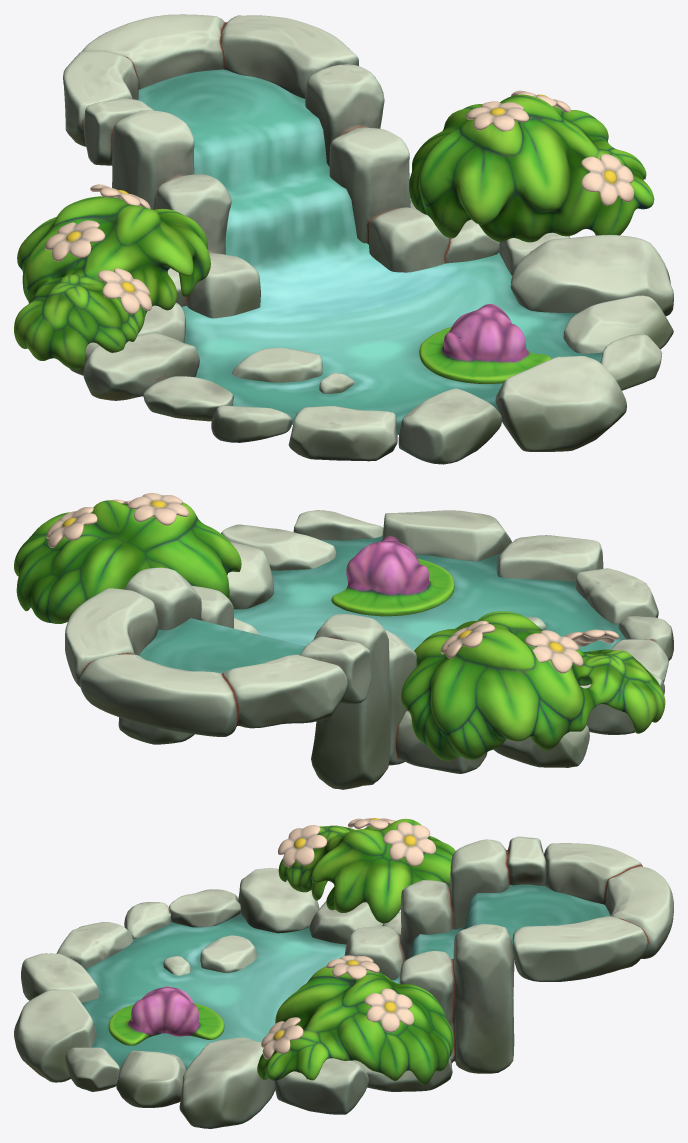
File: FlowerPool_Final.fbx
The picture shows the model from 3 angles, top to bottom: view 1: azimuth 30°, elevation 25°; view 2: azimuth 150°, elevation 25°; view 3: azimuth 270°, elevation 25°; orthographic projection. The views are drawn at different scales.
Parts seen in each view (by area): view 1: Rocks, Water, Flora, Flower Copy Copy (×2), Flower Copy, Flower; view 2: Rocks, Flora, Water, Flower Copy Copy (×2), Flower Copy (×2), Flower; view 3: Rocks, Flora, Water, Flower Copy (×3), Flower Copy Copy, Flower.
Part boxes in pixels (x1=…): Rocks: x1=63, y1=14, x2=673, y2=464; Water: x1=138, y1=69, x2=602, y2=434; Flora: x1=14, y1=94, x2=654, y2=383; Flower Copy Copy (×2): x1=44, y1=220, x2=151, y2=314; Flower Copy: x1=581, y1=154, x2=634, y2=205; Flower: x1=466, y1=101, x2=529, y2=131; Rocks: x1=65, y1=510, x2=673, y2=789; Flora: x1=14, y1=500, x2=665, y2=761; Water: x1=139, y1=536, x2=626, y2=673; Flower Copy Copy (×2): x1=524, y1=629, x2=618, y2=673; Flower Copy (×2): x1=46, y1=507, x2=495, y2=658; Flower: x1=127, y1=493, x2=188, y2=525; Rocks: x1=14, y1=836, x2=673, y2=1128; Flora: x1=108, y1=818, x2=455, y2=1084; Water: x1=81, y1=884, x2=610, y2=1079; Flower Copy (×3): x1=261, y1=822, x2=436, y2=1059; Flower Copy Copy: x1=278, y1=825, x2=327, y2=867; Flower: x1=326, y1=955, x2=379, y2=979.
Size of the model in its own units: 8.7 by 2.4 by 9.53.
